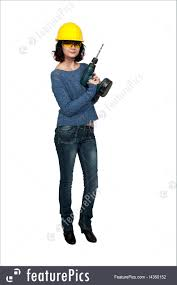Person_wearing_helmet: (50, 17, 93, 42)
